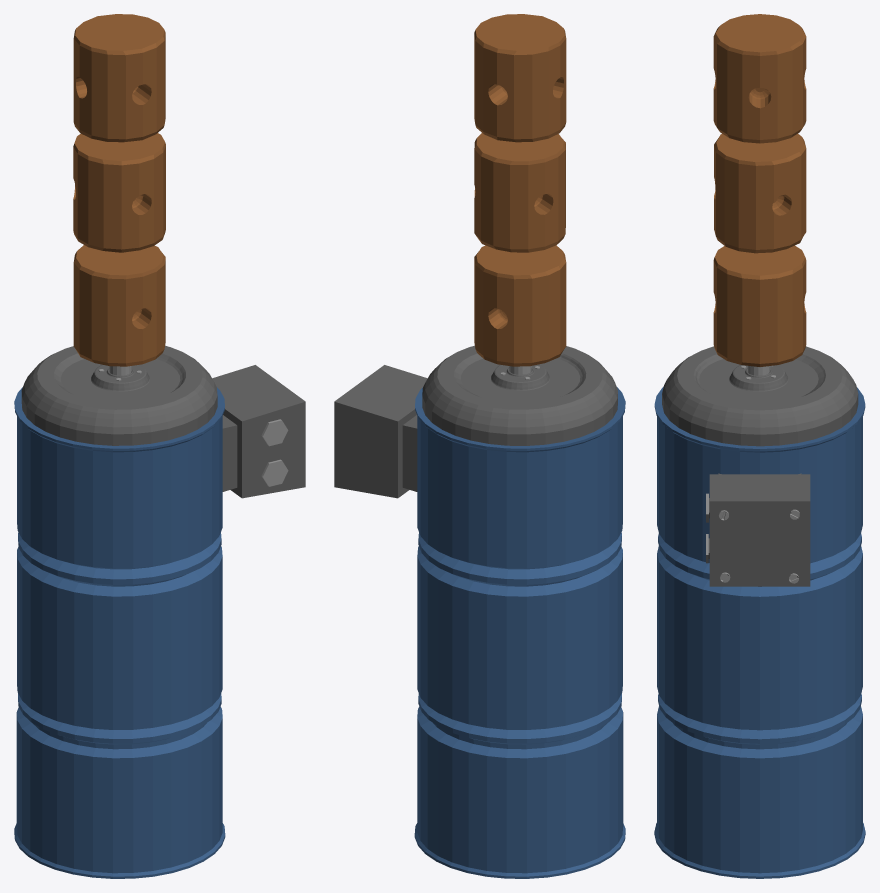
File: Wood.fbx
3 views of the same model, side by side, from view 1: azimuth 30°, elevation 25°; view 2: azimuth 150°, elevation 25°; view 3: azimuth 270°, elevation 25° (orthographic).
Visible parts, largest first — view 1: BarrelAndEngine, Holder3, Holder1, Holder2, Motorbloc; view 2: BarrelAndEngine, Holder3, Holder1, Holder2, Motorbloc; view 3: BarrelAndEngine, Motorbloc, Holder3, Holder1, Holder2.
Part boxes in pixels (<box>): BarrelAndEngine: <box>14,345,225,878</box>; Holder3: <box>73,14,165,142</box>; Holder1: <box>73,245,165,366</box>; Holder2: <box>73,133,165,252</box>; Motorbloc: <box>212,365,305,498</box>; BarrelAndEngine: <box>414,345,625,878</box>; Holder3: <box>474,14,566,142</box>; Holder1: <box>474,245,566,366</box>; Holder2: <box>474,133,565,252</box>; Motorbloc: <box>334,365,427,498</box>; BarrelAndEngine: <box>654,346,865,878</box>; Motorbloc: <box>706,473,810,586</box>; Holder3: <box>713,14,806,143</box>; Holder1: <box>713,245,806,366</box>; Holder2: <box>714,133,806,253</box>.
Size of the model in its own units: 285 by 857 by 205.
